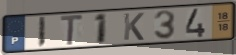1: (93, 12, 109, 45)
3: (153, 10, 177, 42)
4: (185, 7, 207, 39)
I: (36, 16, 47, 49)
K: (122, 12, 146, 42)
T: (59, 14, 86, 48)
